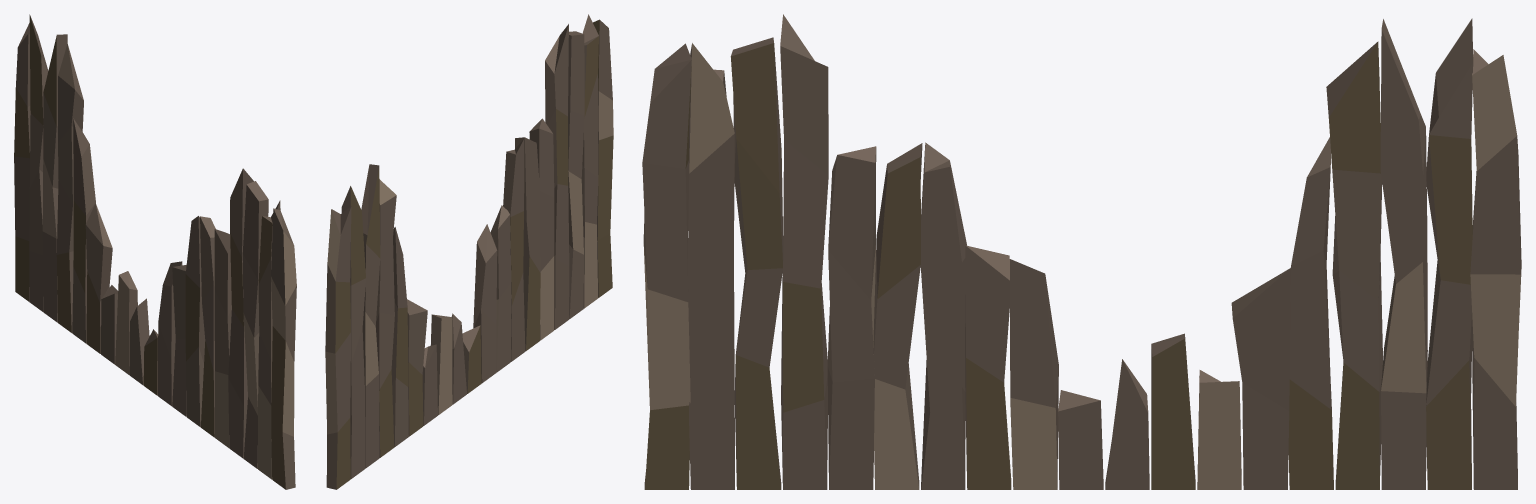
File: HouseWall1.fbx
3 renders of one model, left to right at view 1: azimuth 30°, elevation 25°; view 2: azimuth 150°, elevation 25°; view 3: azimuth 270°, elevation 25°, orthographic. The views are drawn at different scales.
Visible parts, largest first — view 1: Wall1; view 2: Wall1; view 3: Wall1.
Boxes of the visible parts, x1,y1,x2,y2 form: Wall1: [14, 14, 296, 489]; Wall1: [325, 14, 613, 489]; Wall1: [642, 14, 1521, 489].
Bounding box in the file's own units: 21.4 × 531 × 903.
